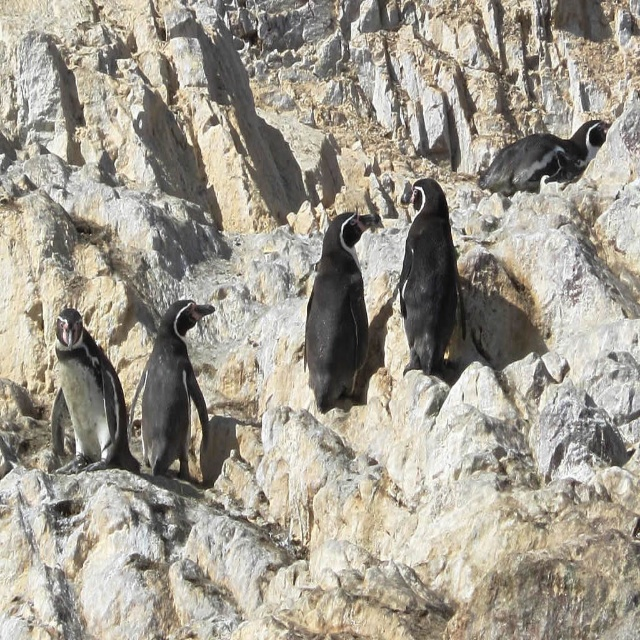Penguin: (129, 298, 217, 483), (51, 305, 140, 475), (302, 207, 373, 415), (397, 176, 467, 375), (475, 117, 615, 203)
